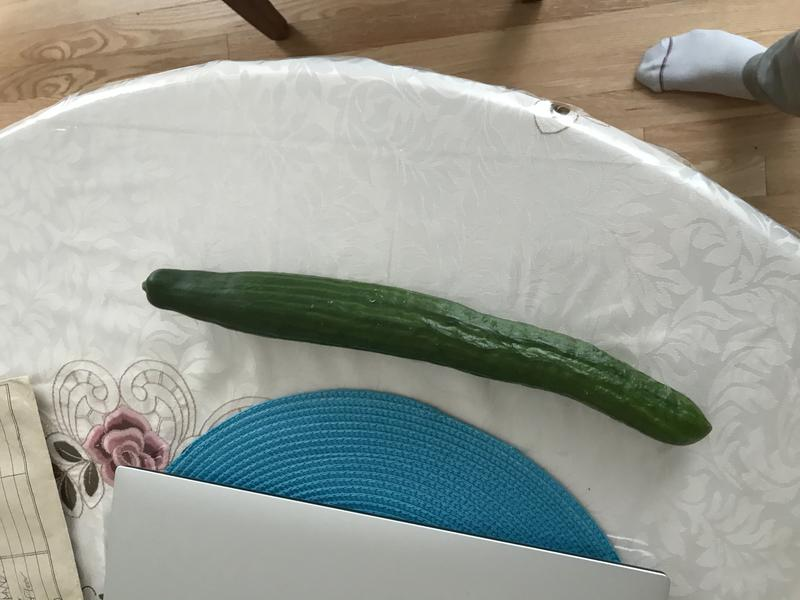cucumber: (131, 253, 718, 453)
